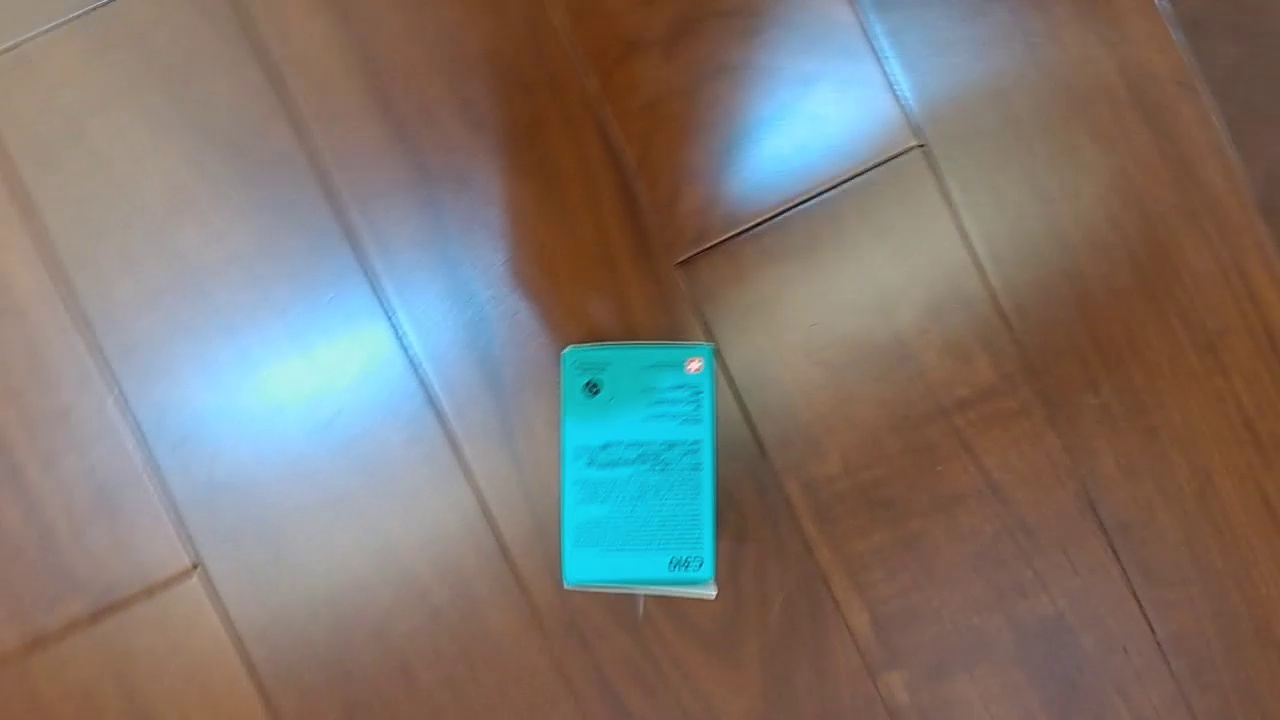webcam: (558, 341, 719, 600)
